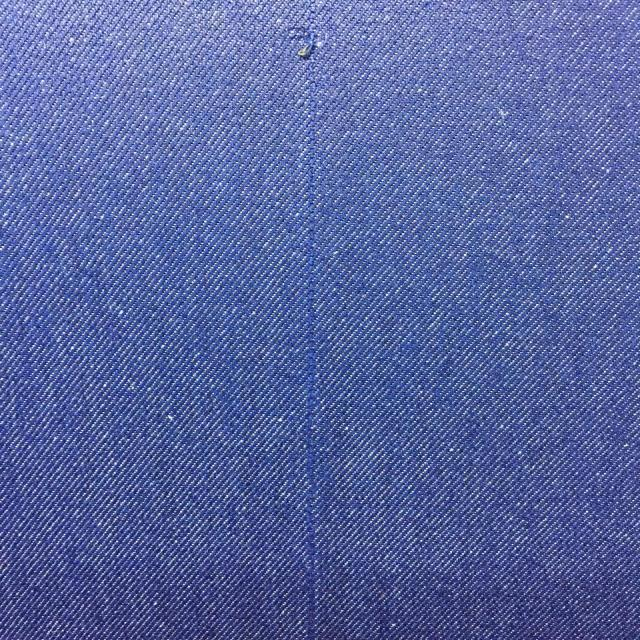Line: (305, 0, 317, 640)
